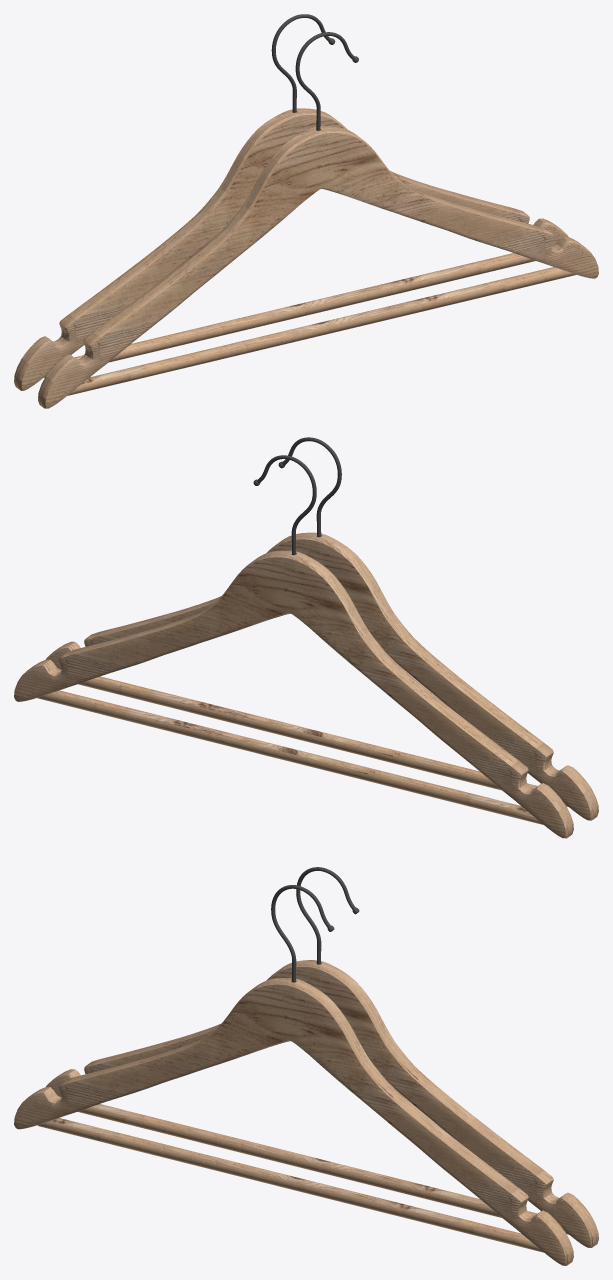
Rendered from Percha.glb.
3 views of the same model, one above another, from view 1: azimuth 30°, elevation 25°; view 2: azimuth 150°, elevation 25°; view 3: azimuth 330°, elevation 25° (orthographic).
Parts seen in each view (by area): view 1: Armario_Percha; view 2: Armario_Percha; view 3: Armario_Percha.
Part boxes in pixels (x1,y1,x2,y2): Armario_Percha: (14, 14, 598, 408); Armario_Percha: (14, 437, 598, 838); Armario_Percha: (14, 867, 598, 1265).
Size of the model in its own units: 0.5219 by 0.278 by 0.0598.
2 materials, 1 textured.
